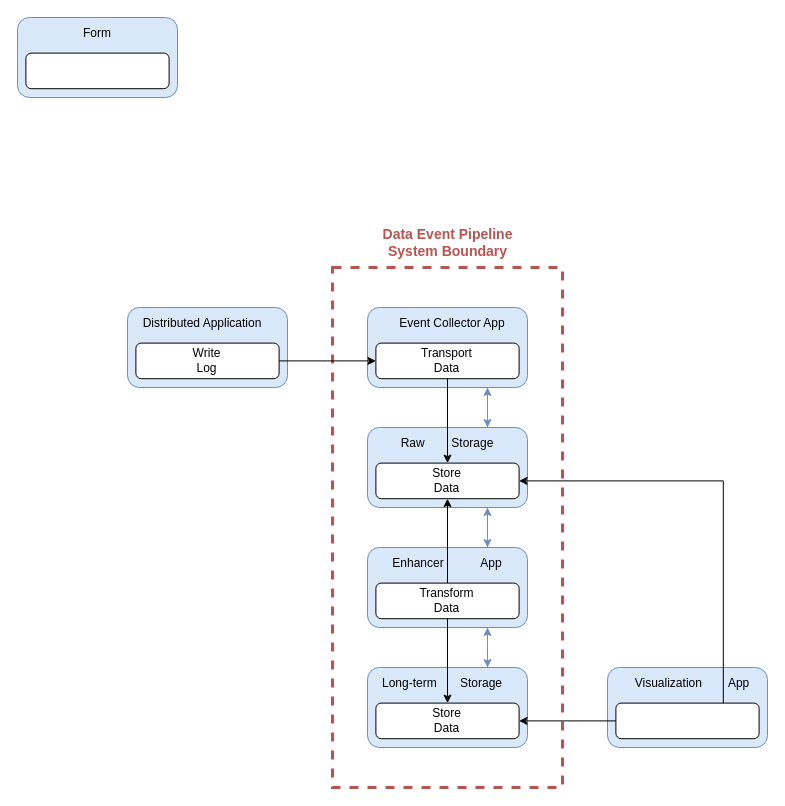
This 785x806 diagram has some shape labels left out. Each missing label, with the centre of its shape:
Process Operand: the point at 97,70
Query Data: the point at 687,720
